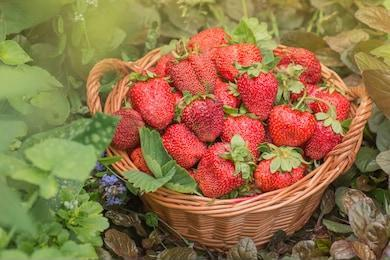Fresa: (191, 138, 250, 200), (127, 73, 178, 132), (234, 63, 280, 122), (265, 102, 319, 150), (252, 146, 307, 193), (167, 49, 219, 97), (180, 93, 226, 145), (300, 110, 344, 163)
